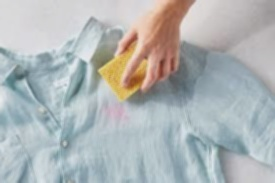lipstick: (103, 101, 134, 119)
